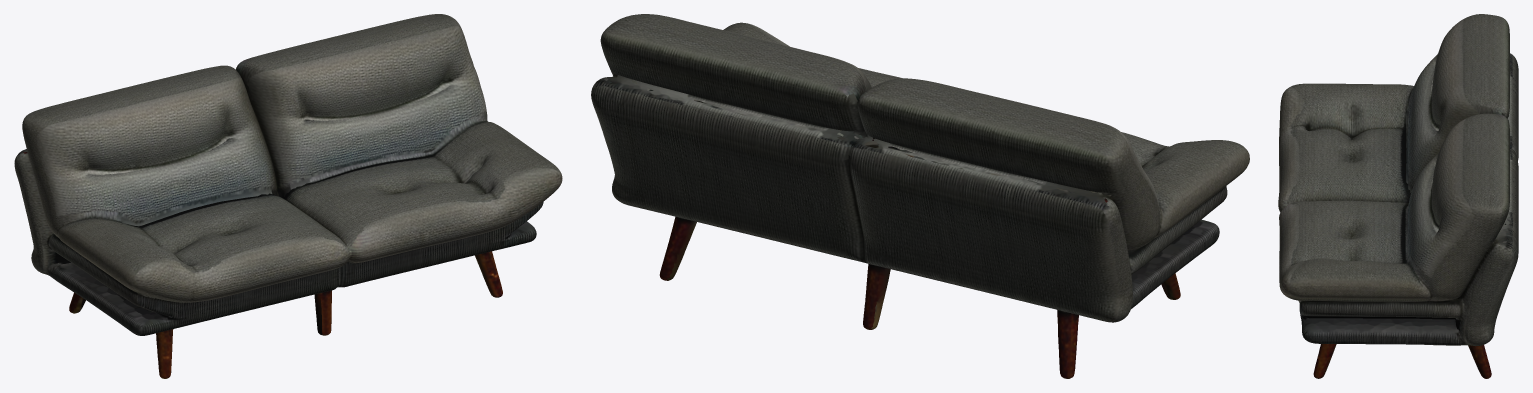
File: couch__couch#3.glb
3 views of the same model, side by side, from view 1: azimuth 30°, elevation 25°; view 2: azimuth 150°, elevation 25°; view 3: azimuth 270°, elevation 25° (orthographic). The views are drawn at different scales.
Parts seen in each view (by area): view 1: tmpfnmzk7vk.ply; view 2: tmpfnmzk7vk.ply; view 3: tmpfnmzk7vk.ply.
Part boxes in pixels (bbox=[...]): tmpfnmzk7vk.ply: bbox=[14, 14, 562, 378]; tmpfnmzk7vk.ply: bbox=[591, 14, 1249, 378]; tmpfnmzk7vk.ply: bbox=[1278, 14, 1518, 378].
Bounding box in the file's own units: 1.99 × 0.9146 × 1.01.
1 material, 1 textured.
